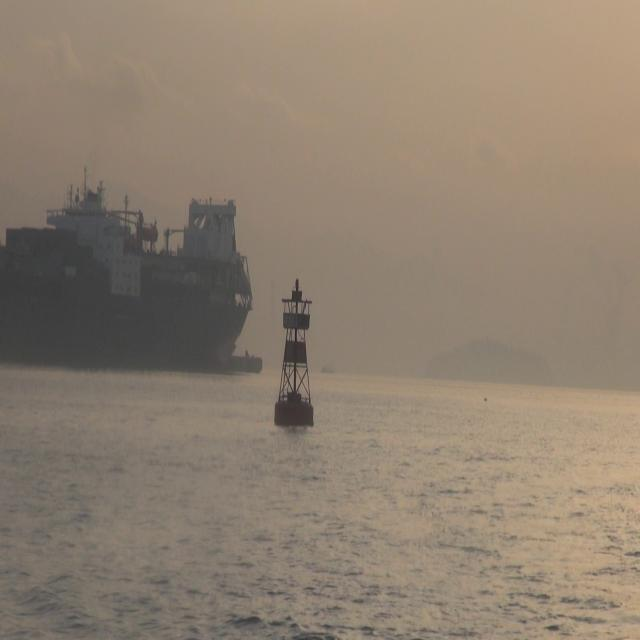ship: (0, 162, 252, 374)
